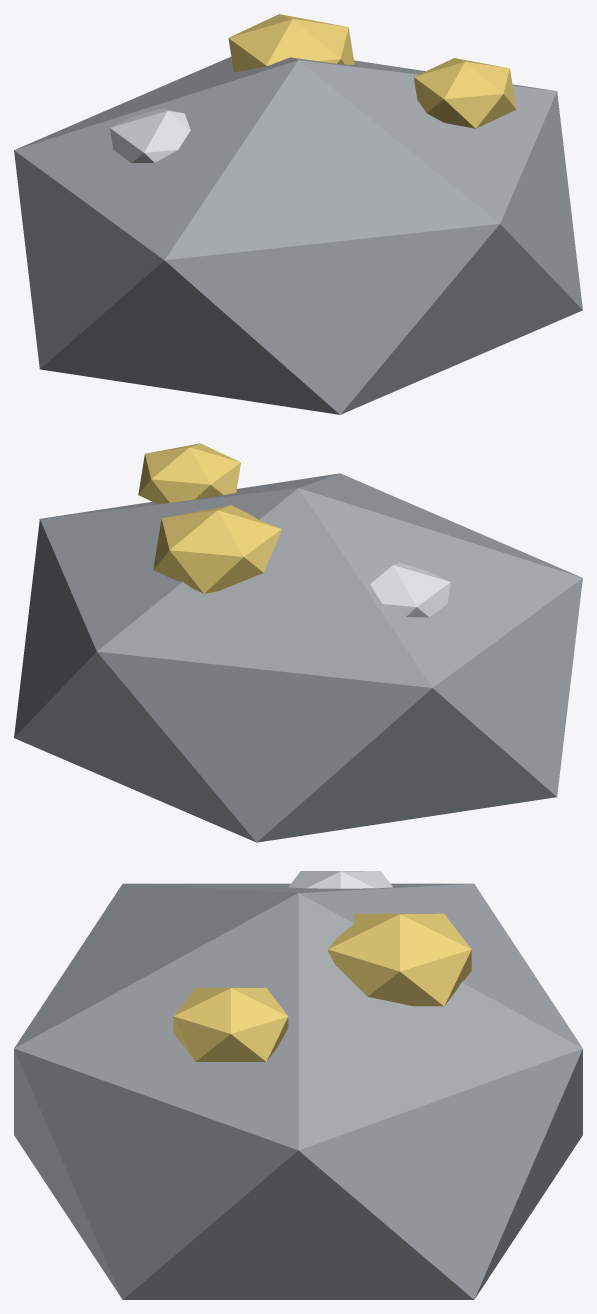
File: ore.glb
3 views of the same model, one above another, from view 1: azimuth 30°, elevation 25°; view 2: azimuth 150°, elevation 25°; view 3: azimuth 270°, elevation 25° (orthographic). The views are drawn at different scales.
Parts seen in each view (by area): view 1: host_rock, fleck_gold_2, fleck_gold, fleck_iron; view 2: host_rock, fleck_gold, fleck_gold_2, fleck_iron; view 3: host_rock, fleck_gold, fleck_gold_2, fleck_iron.
Part boxes in pixels (bbox=[...]): host_rock: bbox=[14, 57, 582, 414]; fleck_gold_2: bbox=[413, 58, 516, 128]; fleck_gold: bbox=[228, 14, 354, 72]; fleck_iron: bbox=[110, 108, 190, 162]; host_rock: bbox=[14, 473, 582, 842]; fleck_gold: bbox=[153, 505, 281, 593]; fleck_gold_2: bbox=[138, 443, 240, 503]; fleck_iron: bbox=[370, 562, 450, 617]; host_rock: bbox=[14, 883, 582, 1299]; fleck_gold: bbox=[328, 913, 471, 1006]; fleck_gold_2: bbox=[173, 987, 288, 1061]; fleck_iron: bbox=[288, 871, 392, 888].
Size of the model in its own units: 0.8264 by 0.5196 by 0.6737.
